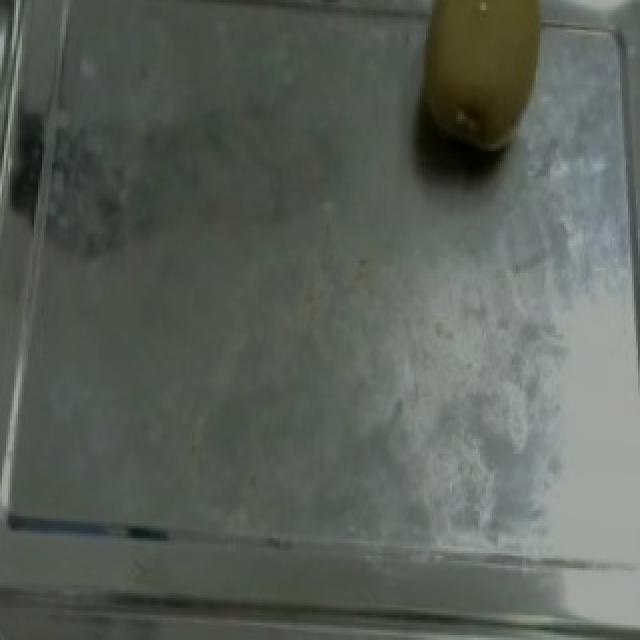Fruit: (394, 0, 564, 176)
